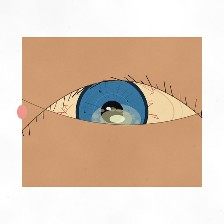corneal_ulcer: (90, 99, 142, 140)
